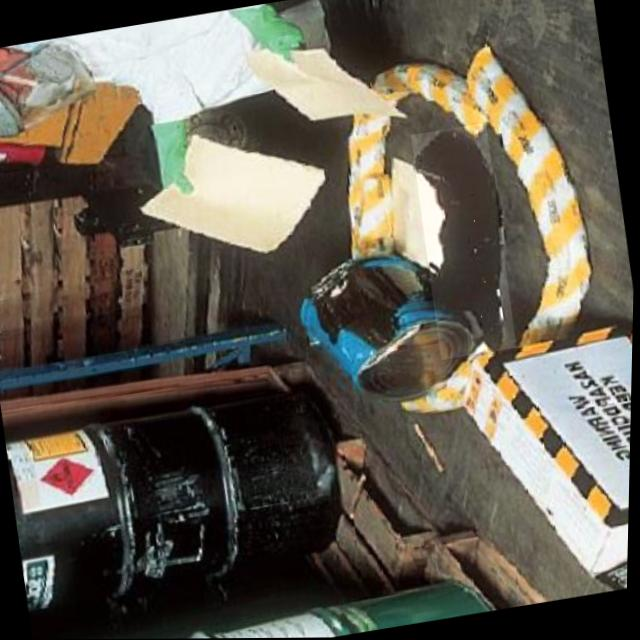spillage: (415, 128, 505, 350)
